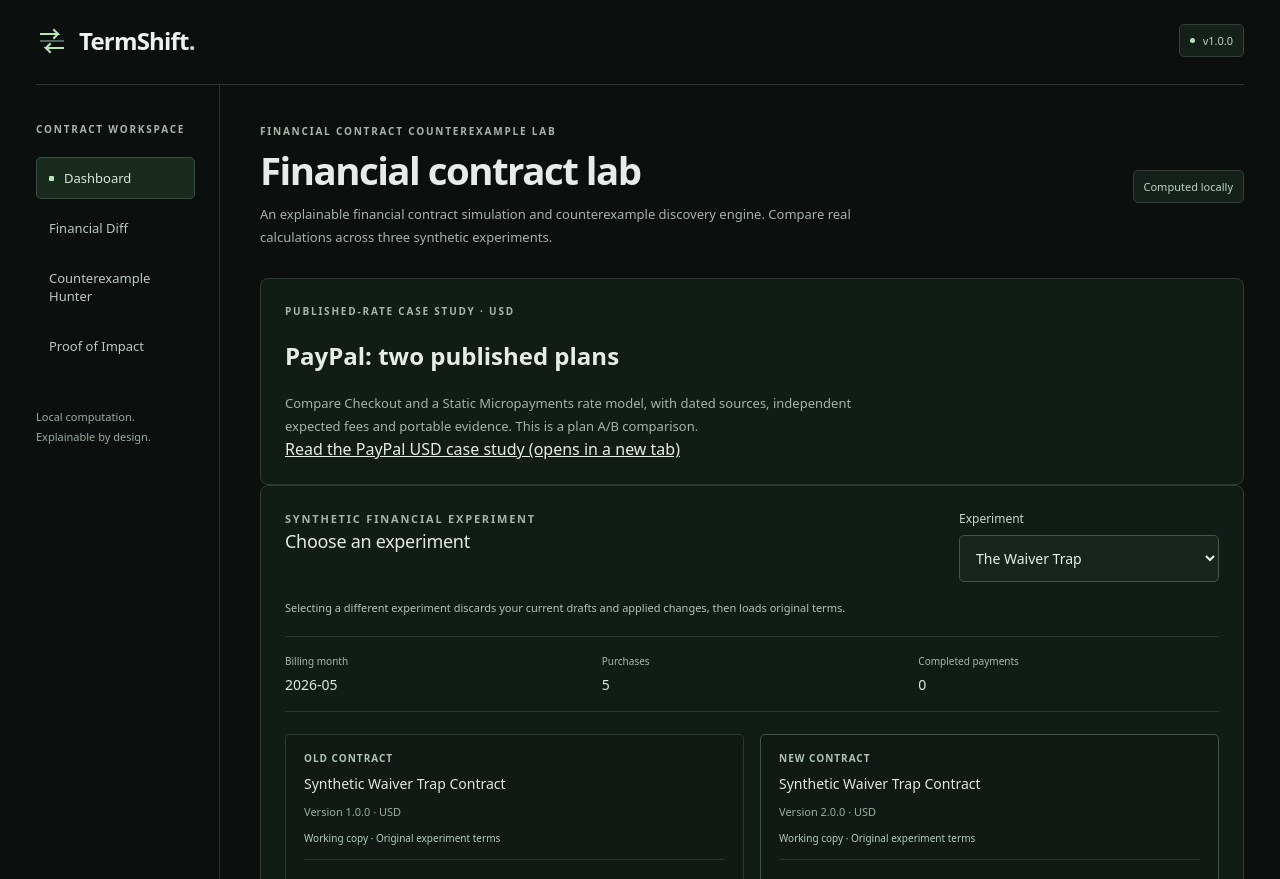
it: Interactive financial Dashboard › switches among all experiments without mutating frozen formal fixtures
Select "The Waiver Trap" in the dropdown labelled "Experiment": point(1089, 559) [959,536,1219,582]
Select "The Microtransaction Penalty" in the dropdown labelled "Experiment": point(1089, 559) [959,536,1219,582]
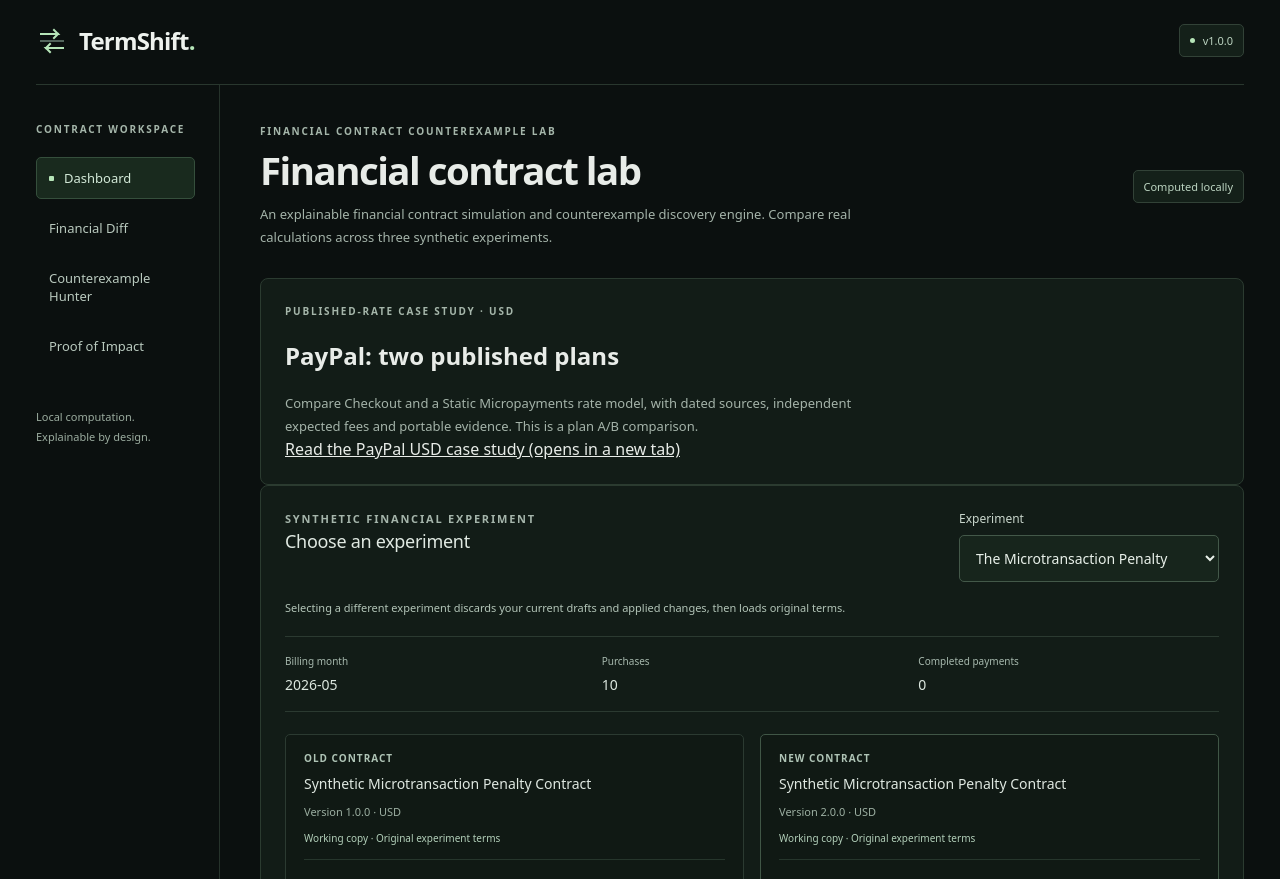
Select "The Grace Period Shift" in the dropdown labelled "Experiment": point(1089, 559) [959,536,1219,582]
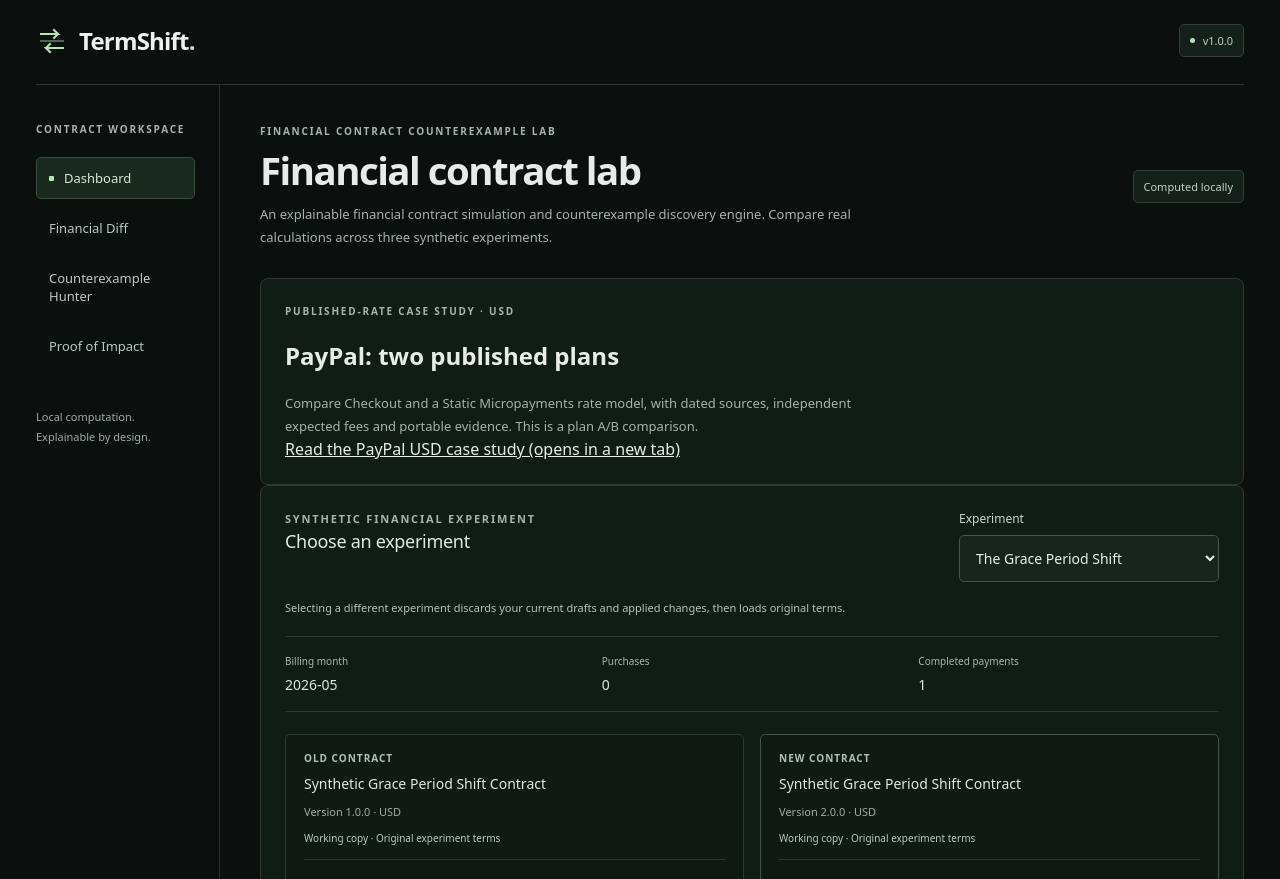
Select "The Waiver Trap" in the dropdown labelled "Experiment": point(1089, 559) [959,536,1219,582]
(page scrolled)
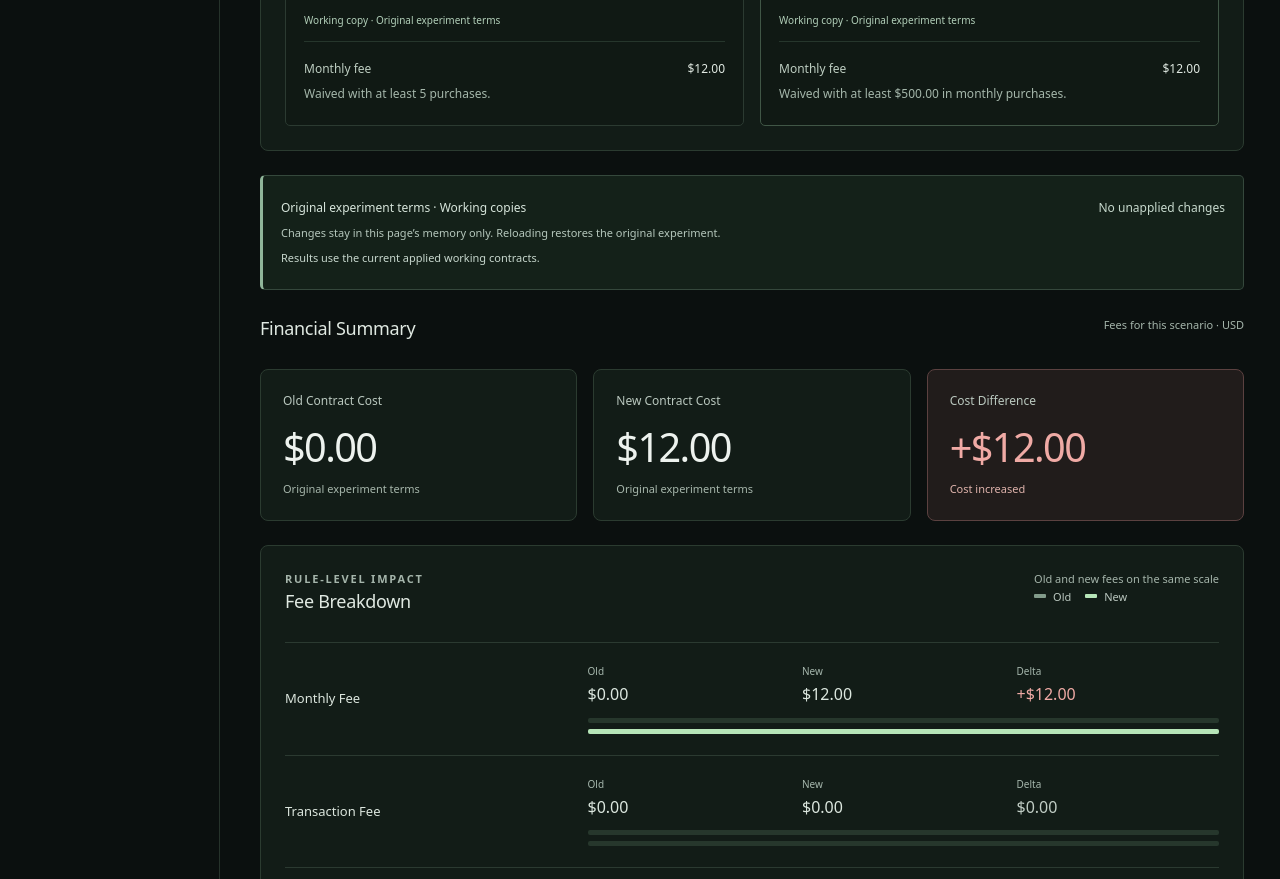
Now the text "$0.00" below "Old Contract Cost" is shown, box [283,420,376,474]
Now the text "$12.00" below "New Contract Cost" is shown, box [616,420,731,474]
Now the text "+$12.00" is shown, box [950,420,1085,474]
